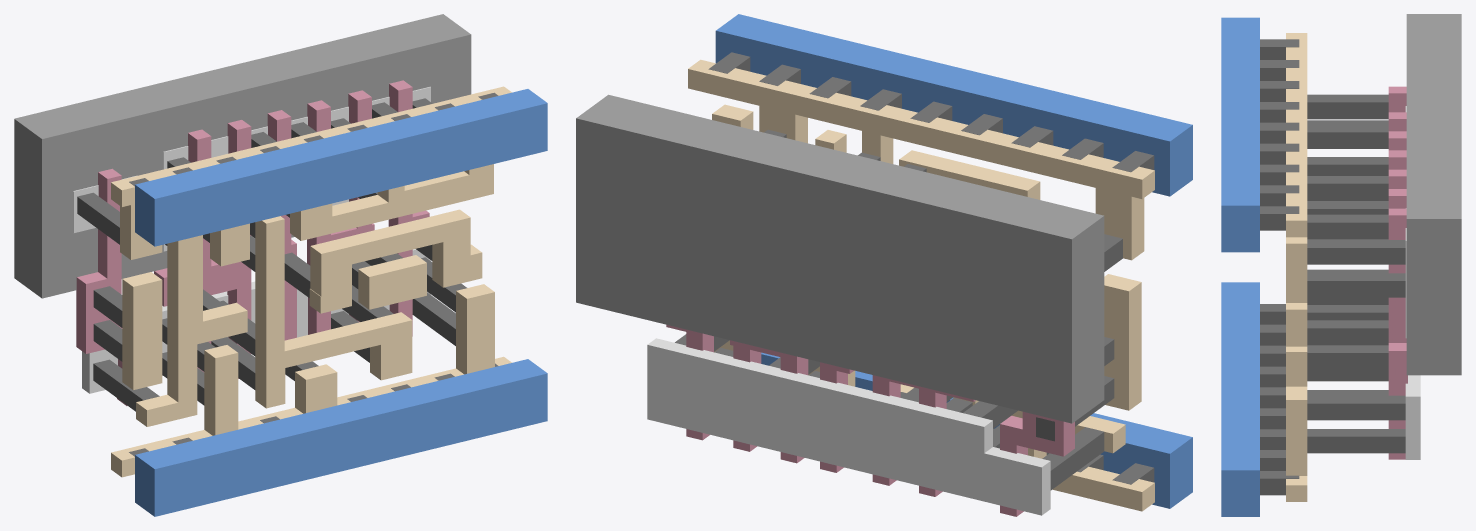
Rendered from sky130_fd_sc_hd__a21boi_2.gds.gltf.
3 views of the same model, side by side, from view 1: azimuth 30°, elevation 25°; view 2: azimuth 150°, elevation 25°; view 3: azimuth 270°, elevation 25° (orthographic). The views are drawn at different scales.
Parts seen in each view (by area): view 1: sky130_fd_sc_hd__a21boi_2_li1, sky130_fd_sc_hd__a21boi_2_met1, sky130_fd_sc_hd__a21boi_2_nwell, sky130_fd_sc_hd__a21boi_2_licon, sky130_fd_sc_hd__a21boi_2_poly, sky130_fd_sc_hd__a21boi_2_diff, sky130_fd_sc_hd__a21boi_2_mcon; view 2: sky130_fd_sc_hd__a21boi_2_nwell, sky130_fd_sc_hd__a21boi_2_diff, sky130_fd_sc_hd__a21boi_2_li1, sky130_fd_sc_hd__a21boi_2_met1, sky130_fd_sc_hd__a21boi_2_poly, sky130_fd_sc_hd__a21boi_2_mcon, sky130_fd_sc_hd__a21boi_2_licon; view 3: sky130_fd_sc_hd__a21boi_2_licon, sky130_fd_sc_hd__a21boi_2_nwell, sky130_fd_sc_hd__a21boi_2_met1, sky130_fd_sc_hd__a21boi_2_mcon, sky130_fd_sc_hd__a21boi_2_li1, sky130_fd_sc_hd__a21boi_2_poly, sky130_fd_sc_hd__a21boi_2_diff.
Part boxes in pixels (x1,y1,x2,y2): sky130_fd_sc_hd__a21boi_2_li1: (111, 86, 511, 477); sky130_fd_sc_hd__a21boi_2_met1: (135, 89, 547, 516); sky130_fd_sc_hd__a21boi_2_nwell: (14, 14, 471, 298); sky130_fd_sc_hd__a21boi_2_licon: (77, 98, 466, 411); sky130_fd_sc_hd__a21boi_2_poly: (76, 80, 429, 405); sky130_fd_sc_hd__a21boi_2_diff: (73, 86, 430, 393); sky130_fd_sc_hd__a21boi_2_mcon: (129, 92, 498, 456); sky130_fd_sc_hd__a21boi_2_nwell: (576, 94, 1104, 423); sky130_fd_sc_hd__a21boi_2_diff: (647, 338, 1050, 515); sky130_fd_sc_hd__a21boi_2_li1: (688, 59, 1154, 511); sky130_fd_sc_hd__a21boi_2_met1: (715, 14, 1192, 508); sky130_fd_sc_hd__a21boi_2_poly: (666, 324, 1074, 516); sky130_fd_sc_hd__a21boi_2_mcon: (708, 52, 1154, 484); sky130_fd_sc_hd__a21boi_2_licon: (675, 129, 1122, 490); sky130_fd_sc_hd__a21boi_2_licon: (1307, 94, 1405, 453); sky130_fd_sc_hd__a21boi_2_nwell: (1406, 14, 1461, 375); sky130_fd_sc_hd__a21boi_2_met1: (1221, 17, 1259, 516); sky130_fd_sc_hd__a21boi_2_mcon: (1260, 39, 1299, 495); sky130_fd_sc_hd__a21boi_2_li1: (1286, 33, 1307, 501); sky130_fd_sc_hd__a21boi_2_poly: (1388, 86, 1407, 459); sky130_fd_sc_hd__a21boi_2_diff: (1405, 106, 1420, 459).
Size of the model in its own units: 4.52 by 3.2 by 2.24.
